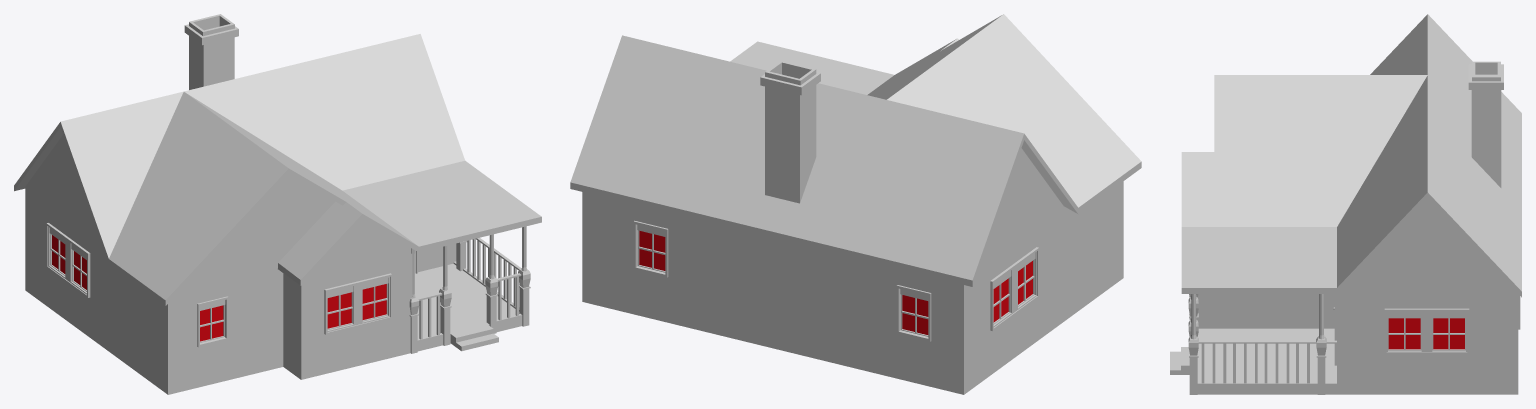
File: SM_ordinary_houses_05.glb
The picture shows the model from 3 angles, left to right: view 1: azimuth 30°, elevation 25°; view 2: azimuth 150°, elevation 25°; view 3: azimuth 270°, elevation 25°; orthographic projection. The views are drawn at different scales.
Parts seen in each view (by area): view 1: ordinary_houses_05; view 2: ordinary_houses_05; view 3: ordinary_houses_05.
Boxes of the visible parts, left/top/right/bottom form: ordinary_houses_05: left=14, top=14, right=541, bottom=394; ordinary_houses_05: left=570, top=14, right=1141, bottom=394; ordinary_houses_05: left=1170, top=14, right=1521, bottom=394.
Bounding box in the file's own units: 12 × 7.55 × 10.
